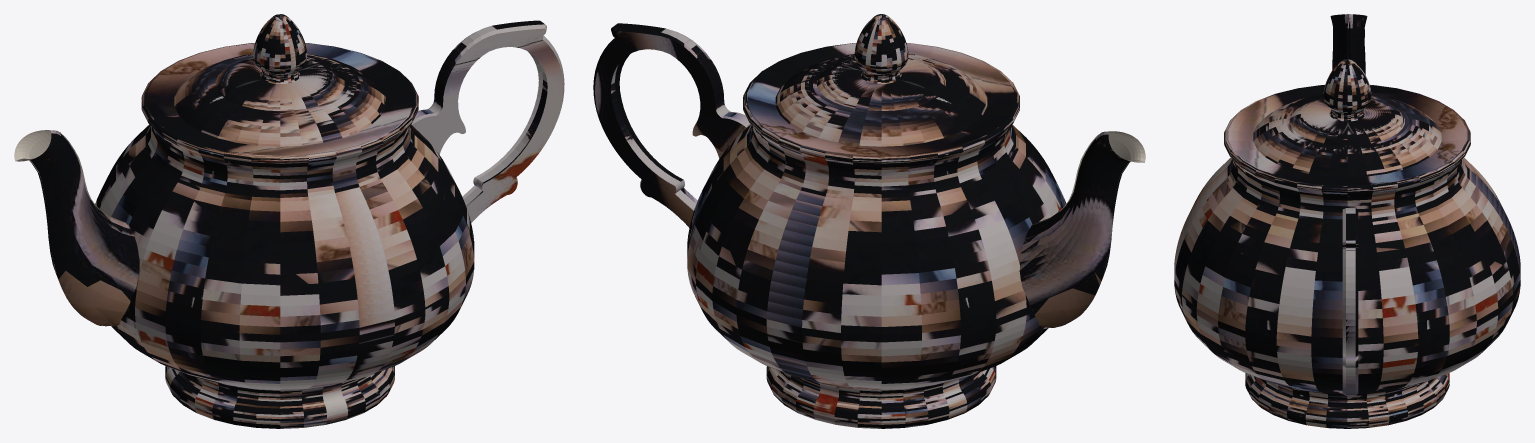
The model's file is teapot_2.glb.
3 views of the same model, side by side, from view 1: azimuth 30°, elevation 25°; view 2: azimuth 150°, elevation 25°; view 3: azimuth 270°, elevation 25° (orthographic). The views are drawn at different scales.
Parts seen in each view (by area): view 1: mesh_6_ROOT__Component_28970__Component_25154__Component_54_, mesh_0_ROOT__Component_28970__Component_25157_Layer0_93_85_8, mesh_3_ROOT__Component_28970__Component_25154__Component_208, mesh_1_ROOT__Component_28970__Component_25157_Layer0_135_120; view 2: mesh_6_ROOT__Component_28970__Component_25154__Component_54_, mesh_0_ROOT__Component_28970__Component_25157_Layer0_93_85_8, mesh_5_ROOT__Component_28970__Component_25154__Component_208, mesh_3_ROOT__Component_28970__Component_25154__Component_208, mesh_1_ROOT__Component_28970__Component_25157_Layer0_135_120; view 3: mesh_6_ROOT__Component_28970__Component_25154__Component_54_, mesh_3_ROOT__Component_28970__Component_25154__Component_208, mesh_0_ROOT__Component_28970__Component_25157_Layer0_93_85_8.
Part boxes in pixels (x1,y1,x2,y2): mesh_6_ROOT__Component_28970__Component_25154__Component_54_: (95,14,474,428); mesh_0_ROOT__Component_28970__Component_25157_Layer0_93_85_8: (29,130,139,325); mesh_3_ROOT__Component_28970__Component_25154__Component_208: (411,20,564,222); mesh_1_ROOT__Component_28970__Component_25157_Layer0_135_120: (14,130,125,272); mesh_6_ROOT__Component_28970__Component_25154__Component_54_: (687,14,1066,428); mesh_0_ROOT__Component_28970__Component_25157_Layer0_93_85_8: (1019,131,1129,327); mesh_5_ROOT__Component_28970__Component_25154__Component_208: (595,31,746,227); mesh_3_ROOT__Component_28970__Component_25154__Component_208: (593,23,750,210); mesh_1_ROOT__Component_28970__Component_25157_Layer0_135_120: (1034,131,1145,328); mesh_6_ROOT__Component_28970__Component_25154__Component_54_: (1174,59,1520,428); mesh_3_ROOT__Component_28970__Component_25154__Component_208: (1342,208,1358,395); mesh_0_ROOT__Component_28970__Component_25157_Layer0_93_85_8: (1330,14,1367,75).
Bounding box in the file's own units: 1466 × 937 × 900.
7 materials, 5 textured.
